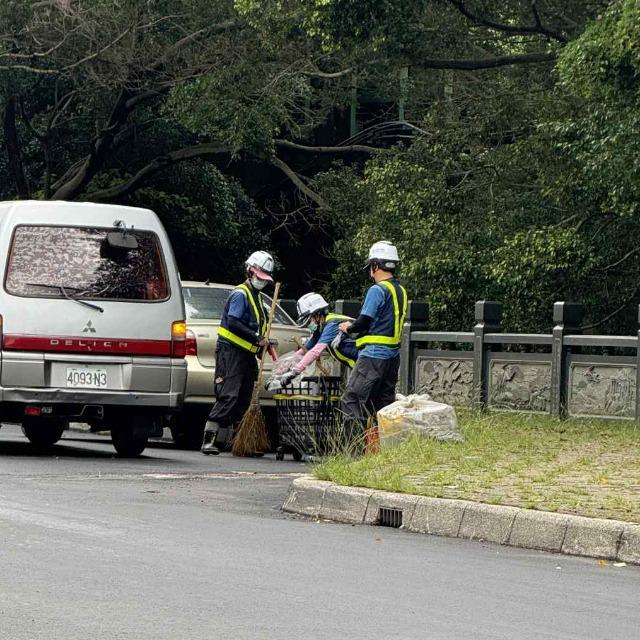Vest: (352, 280, 412, 364), (215, 283, 274, 366)
